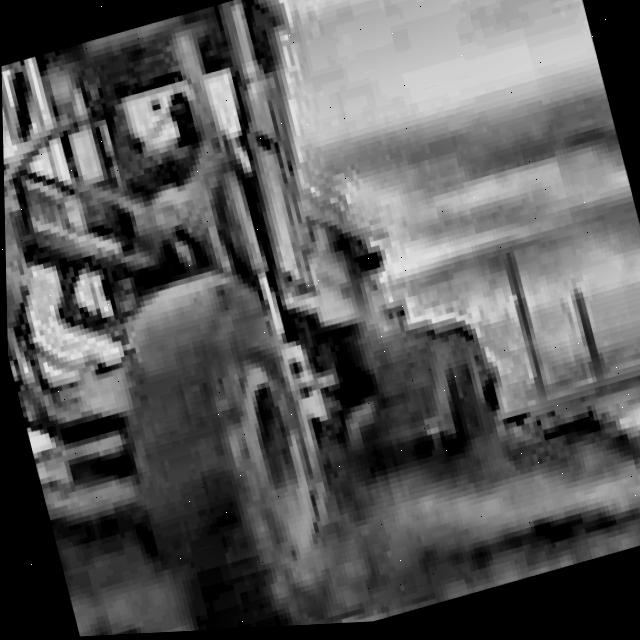buldozerpayloadergrader: (0, 0, 547, 640)
